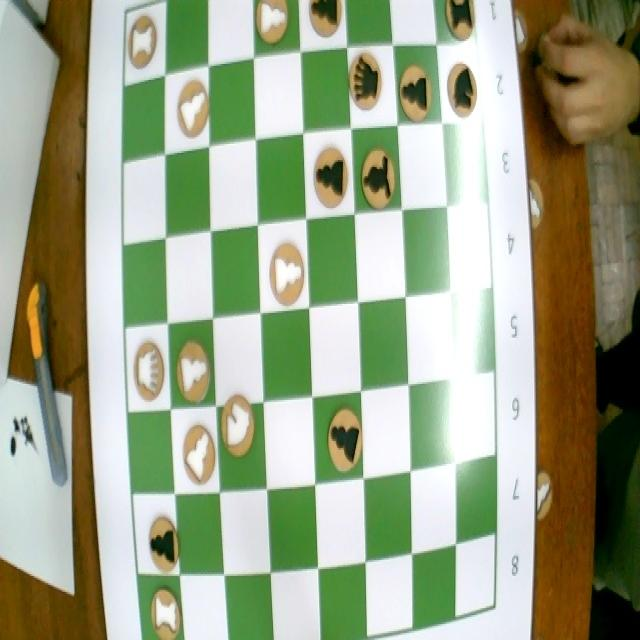chess-pieces: (322, 398, 369, 482), (263, 236, 311, 315), (312, 137, 356, 222), (173, 74, 218, 152), (358, 134, 398, 216), (173, 330, 215, 407), (220, 390, 260, 468), (344, 49, 388, 115), (180, 419, 220, 489), (133, 336, 168, 414), (445, 53, 481, 128), (396, 52, 432, 126), (147, 508, 184, 576), (146, 578, 185, 640), (253, 0, 292, 53), (128, 12, 160, 74), (306, 0, 344, 51)
